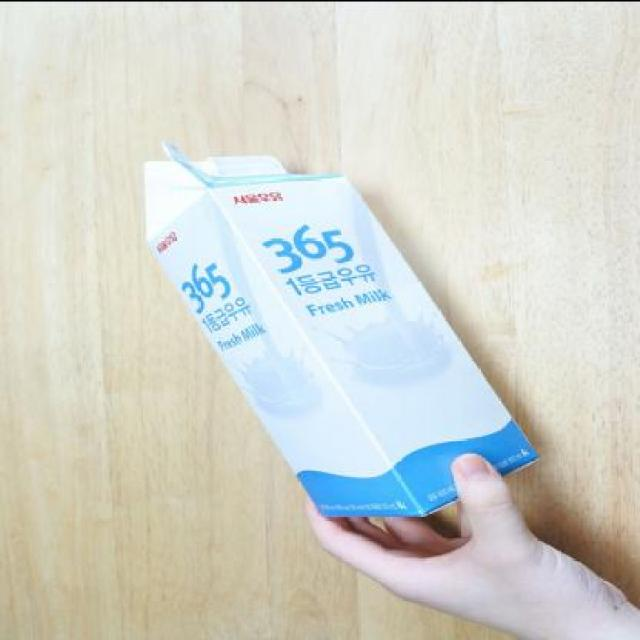non_white_jug: (111, 127, 551, 527)
